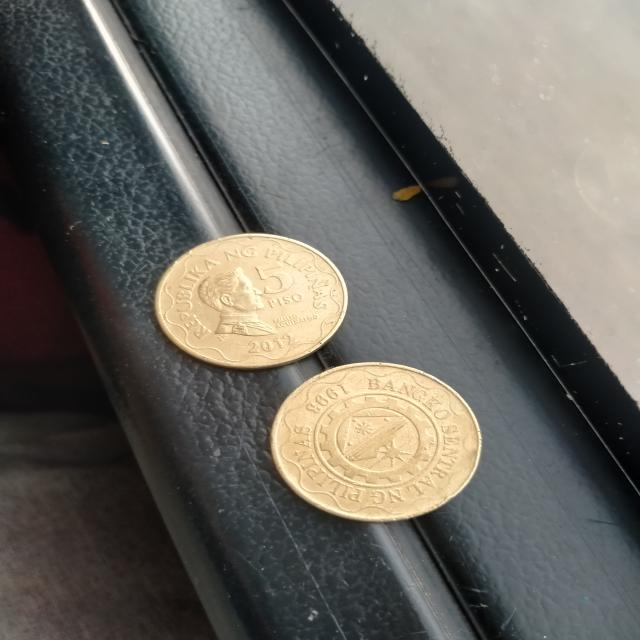5_Old_Back: (270, 359, 486, 526)
5_Old_Front: (238, 253, 306, 310)
